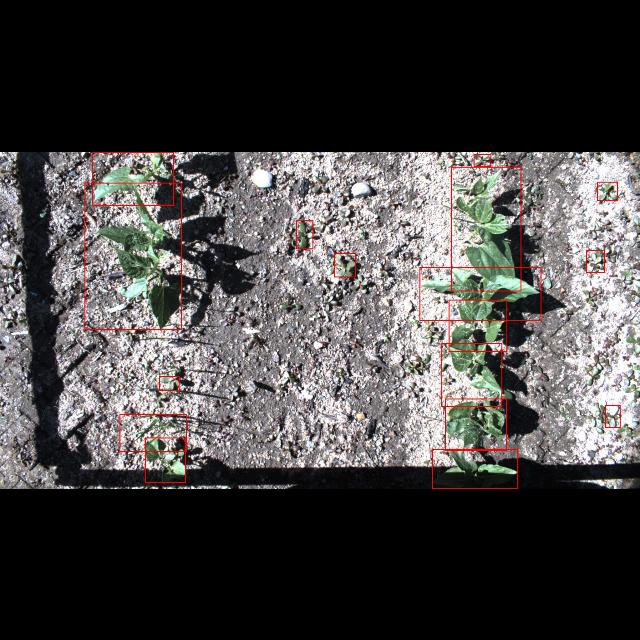crop: (85, 182, 181, 328), (451, 166, 521, 290), (420, 266, 540, 320), (92, 152, 174, 204), (442, 342, 502, 406), (432, 448, 518, 488), (446, 398, 506, 450), (449, 300, 507, 350), (145, 438, 185, 482)
weed: (120, 414, 186, 452), (334, 252, 356, 276), (297, 220, 313, 248), (597, 180, 617, 200), (587, 250, 605, 272), (606, 405, 620, 427), (159, 376, 179, 390), (474, 153, 491, 165)
